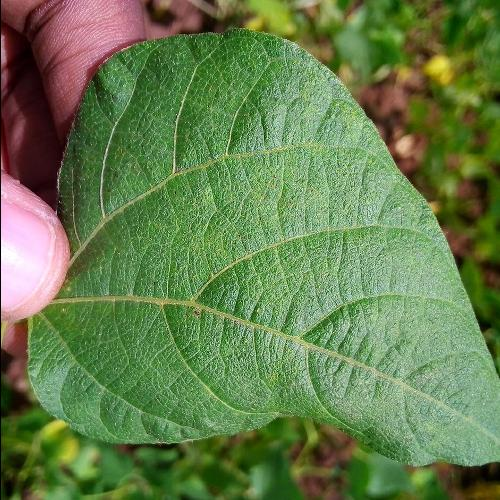mozaik: (105, 55, 280, 408)
